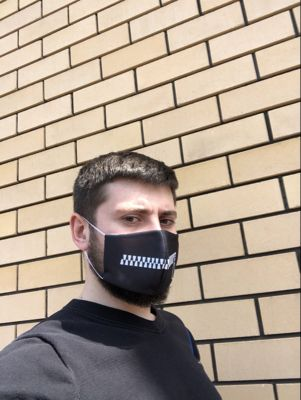with-mask: (73, 170, 184, 305)
